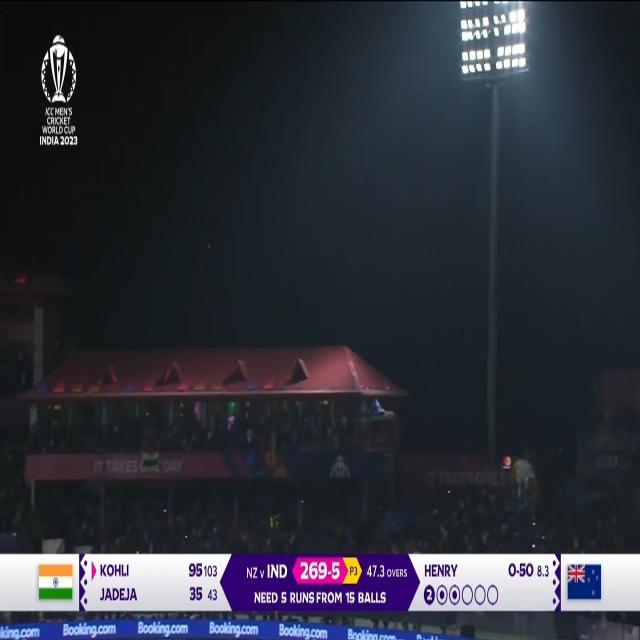ball: (204, 235, 215, 258)
